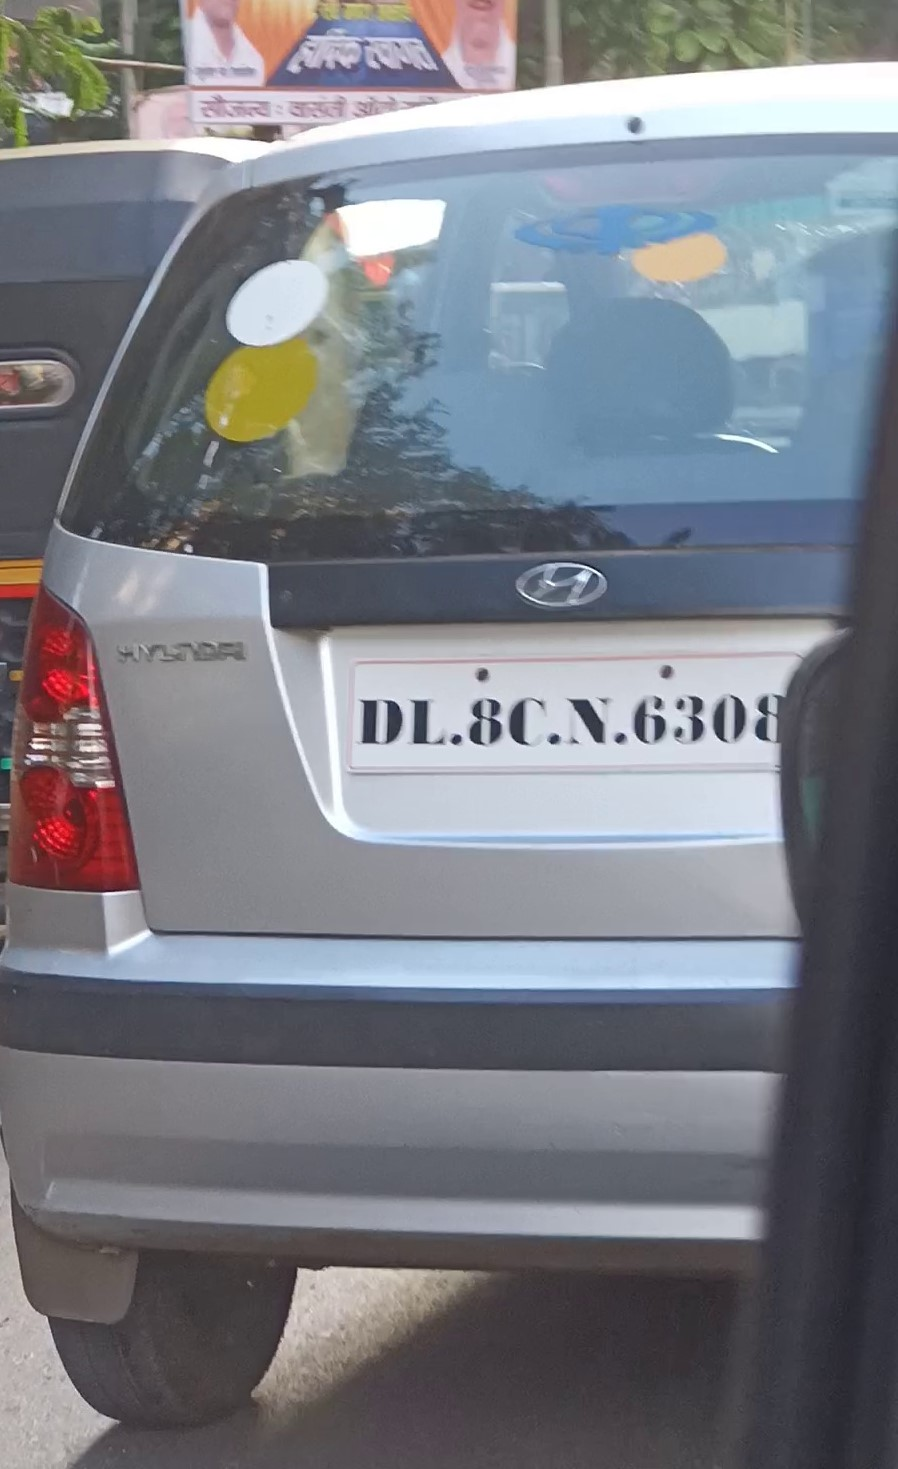DL8CN6308: (348, 656, 820, 773)
